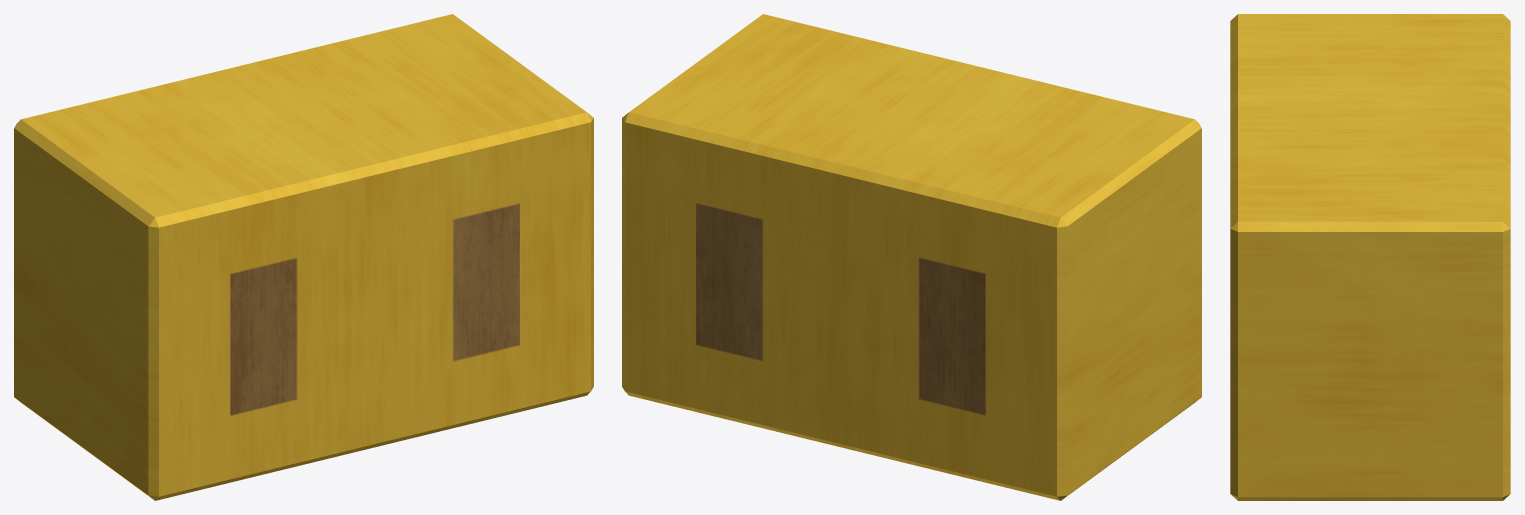
The model's file is houseblock2-3.fbx.
3 renders of one model, left to right at view 1: azimuth 30°, elevation 25°; view 2: azimuth 150°, elevation 25°; view 3: azimuth 270°, elevation 25°, orthographic.
Parts seen in each view (by area): view 1: houseblock2; view 2: houseblock2; view 3: houseblock2.
Part boxes in pixels (x1,y1,x2,y2): houseblock2: (14,14,593,500); houseblock2: (622,14,1201,500); houseblock2: (1230,14,1510,500).
Size of the model in its own units: 1.78 by 1.08 by 0.9853.
